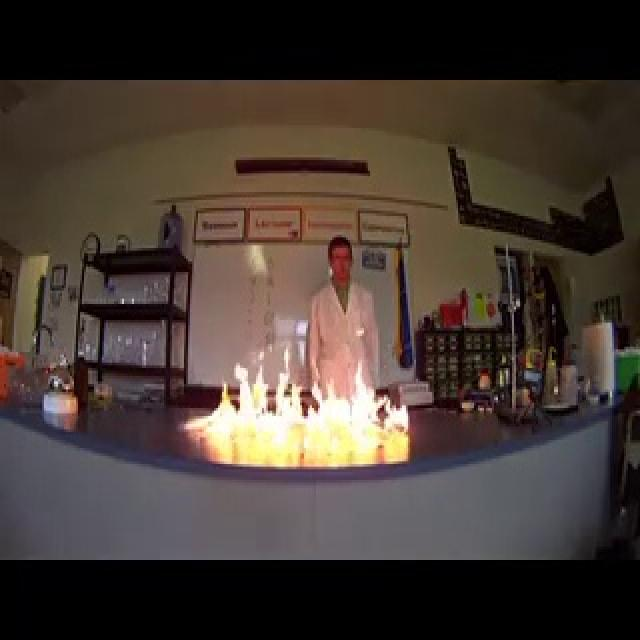fire: (179, 338, 414, 447)
